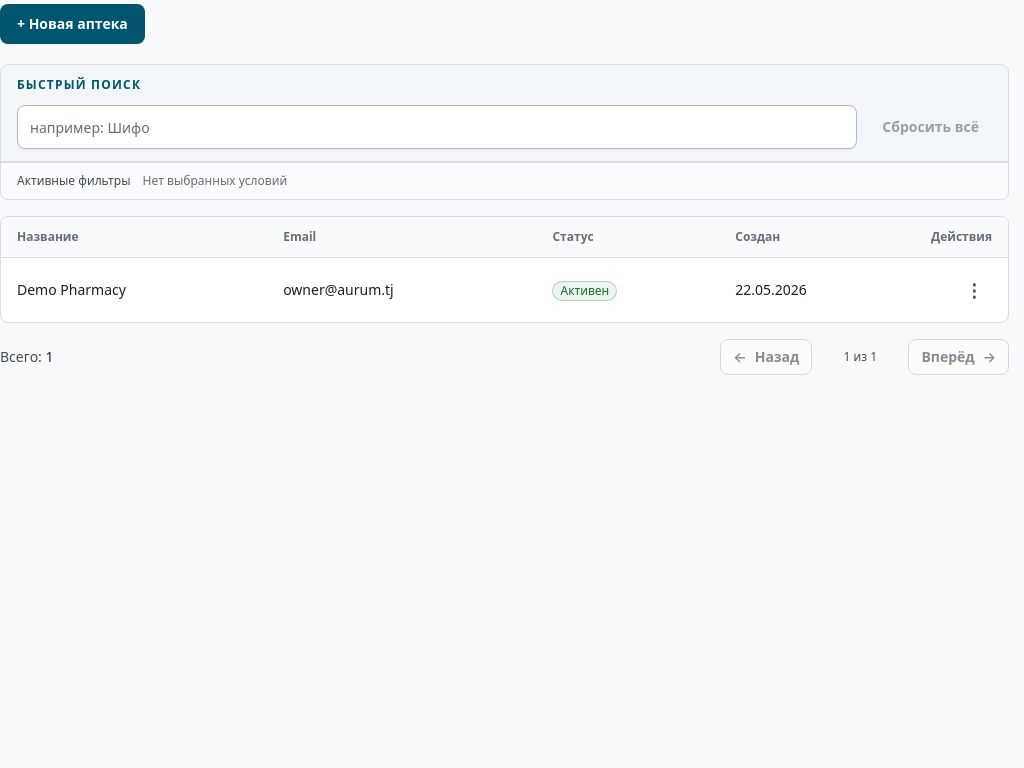
TenantsPage › creates a member for the selected tenant and refreshes data
This screenshot has width=1024, height=768.
Click the button "⋮": (974, 290) [956, 272, 992, 308]
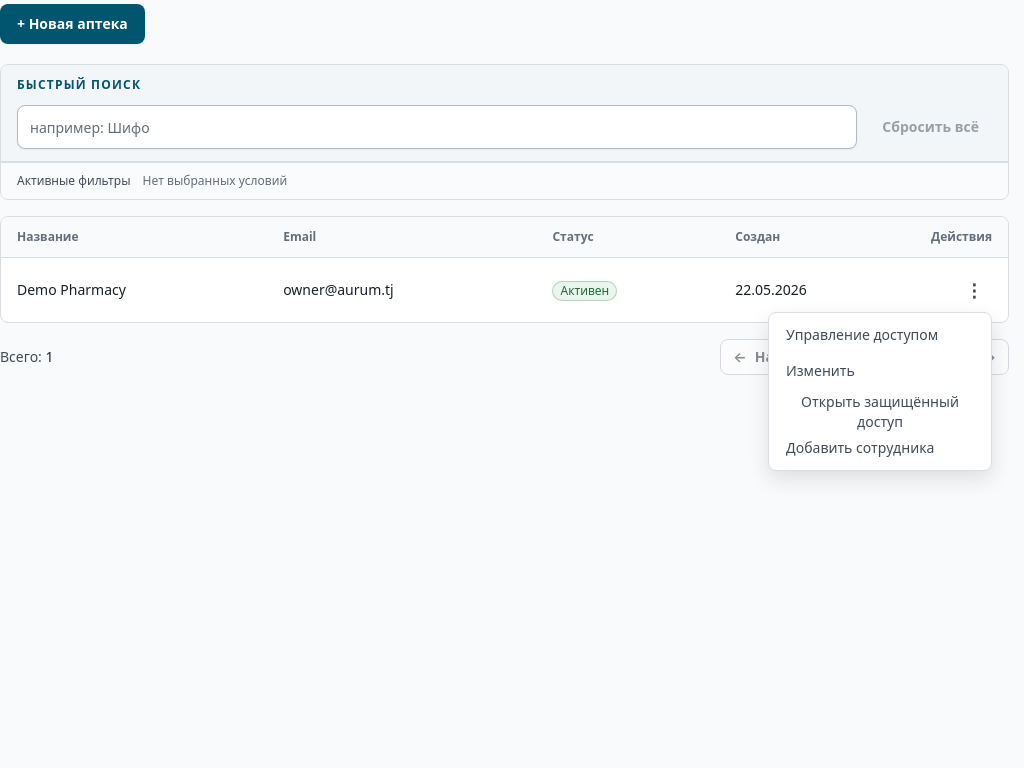
Click the menu item "Добавить сотрудника": (880, 448) [773, 430, 987, 466]
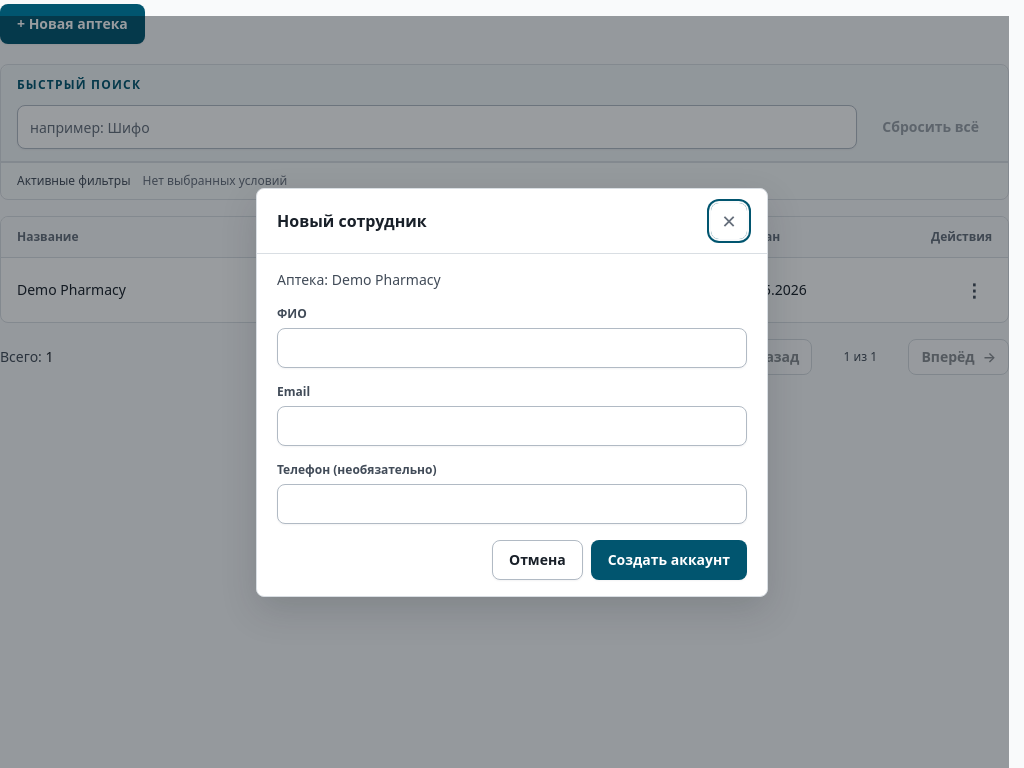
In the field labelled "ФИО": (512, 348) [277, 328, 747, 368], type "Новый Сотрудник"
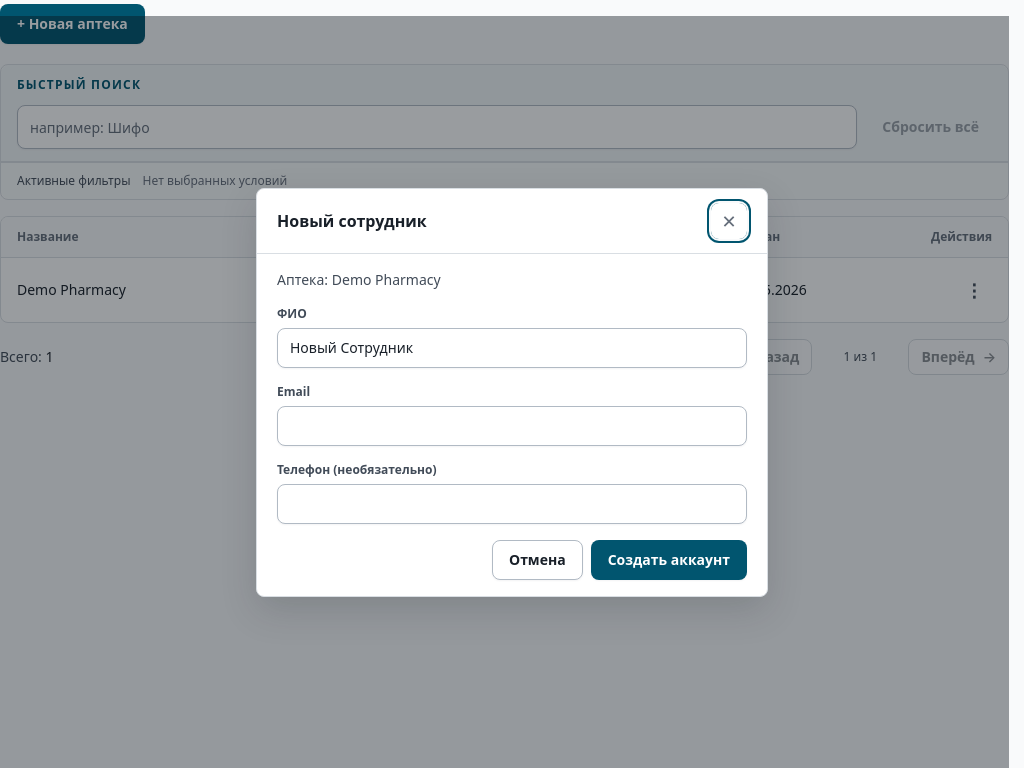
In the field labelled "Email": (512, 426) [277, 406, 747, 446], type "member@aurum.tj"
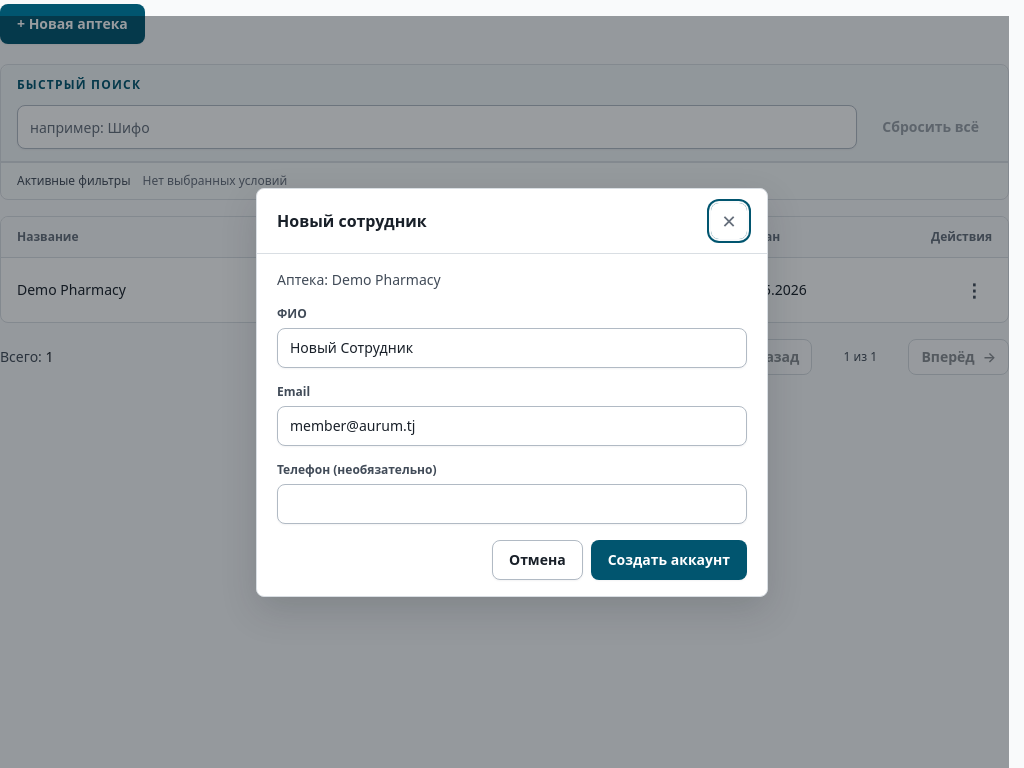
In the field labelled "Телефон (необязательно)": (512, 504) [277, 484, 747, 524], type "+992900001100"
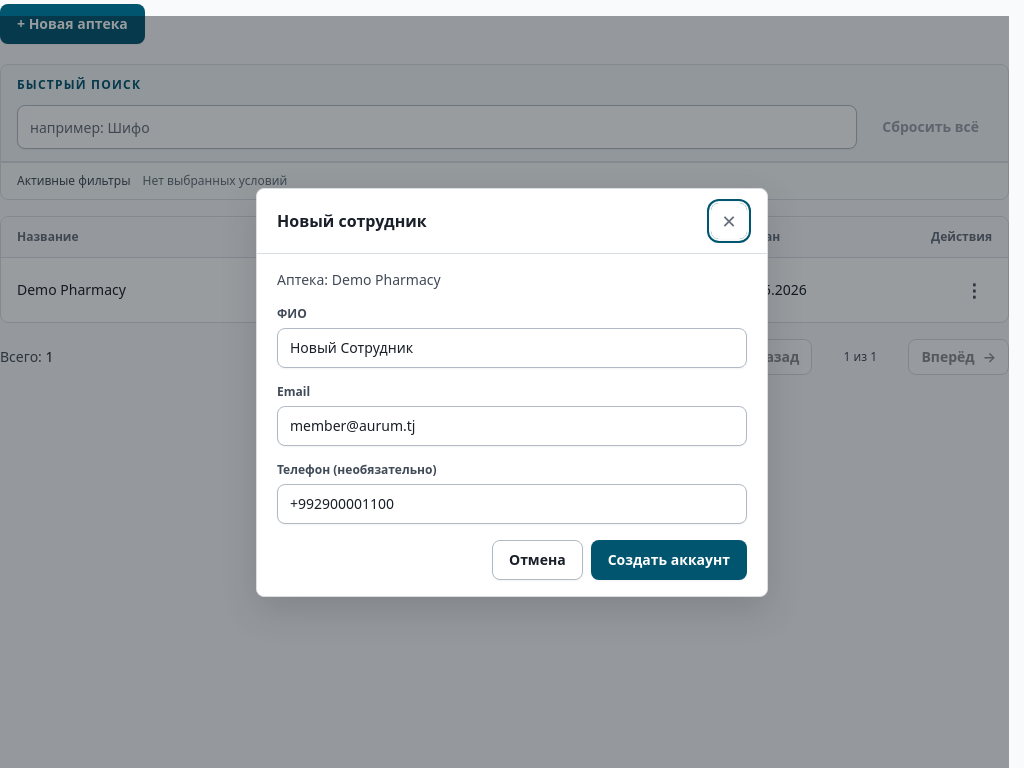
Click the button "Создать аккаунт": (669, 560) [591, 540, 747, 580]
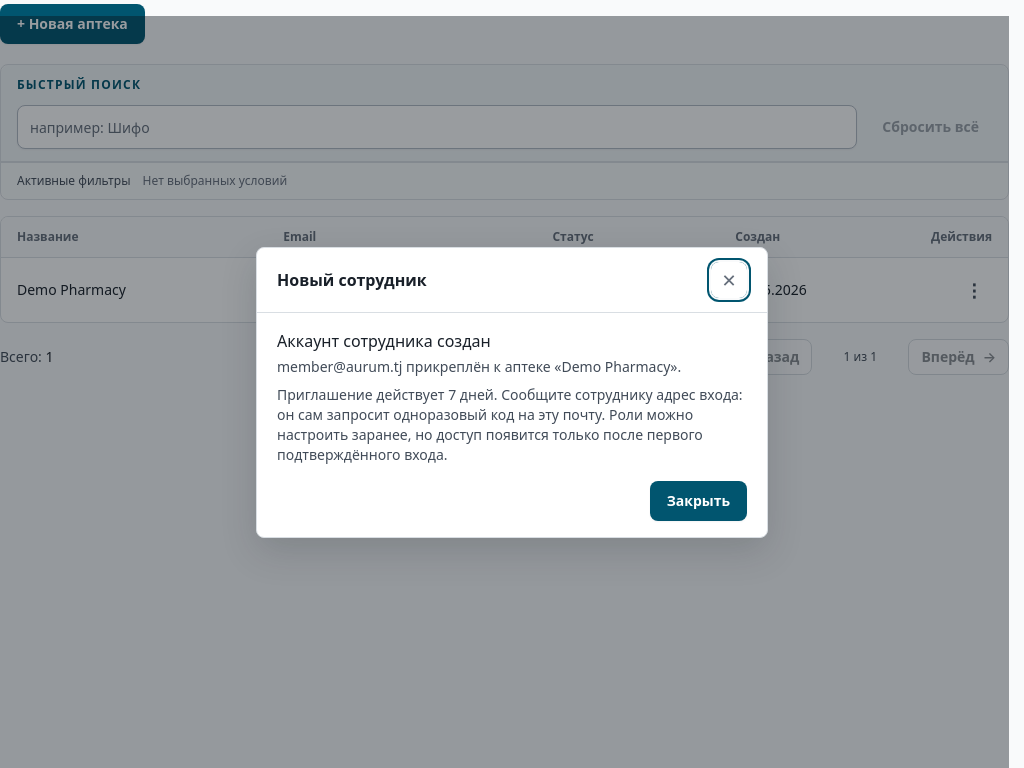
Now the text "Аккаунт сотрудника создан" is shown, box [277, 330, 491, 352]
